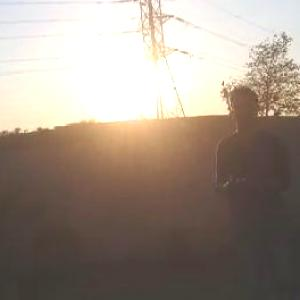follow: (210, 79, 299, 299)
